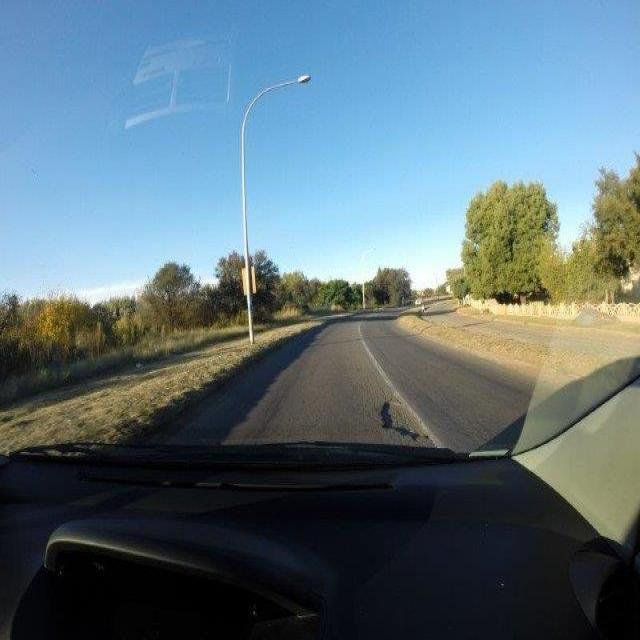lubang: (377, 394, 434, 442)
